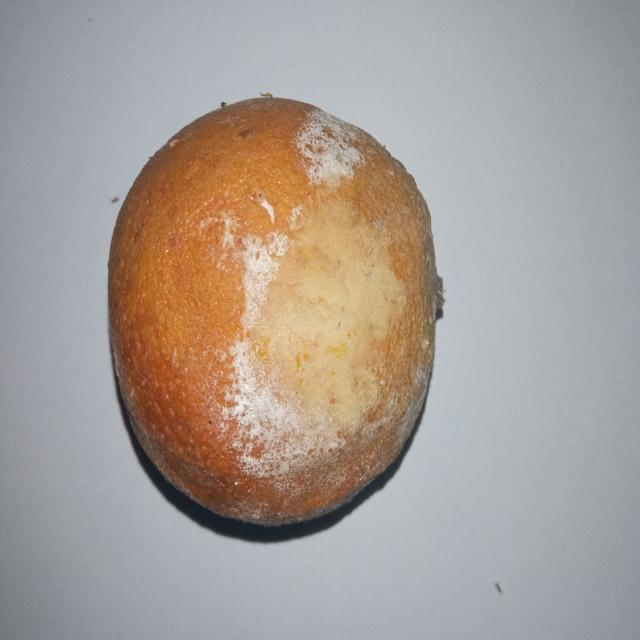rotten_orange: (107, 96, 443, 526)
